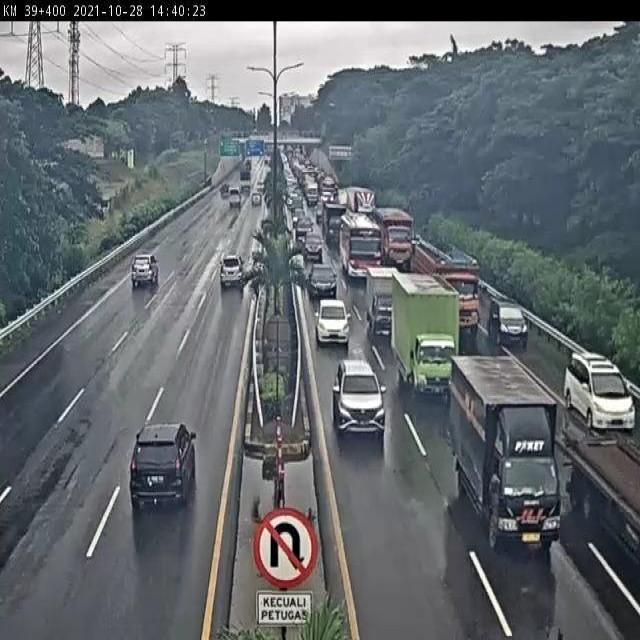bus-l-: (338, 212, 381, 277)
car: (125, 426, 198, 510), (563, 352, 639, 428), (335, 357, 385, 436), (488, 300, 528, 353), (313, 298, 351, 346), (128, 248, 165, 287), (217, 251, 249, 289), (308, 261, 340, 296)
truck-l-: (417, 241, 478, 335), (379, 209, 411, 267)
truck-m-: (447, 353, 561, 550), (391, 274, 459, 390)
truck-s-: (369, 265, 402, 335)
